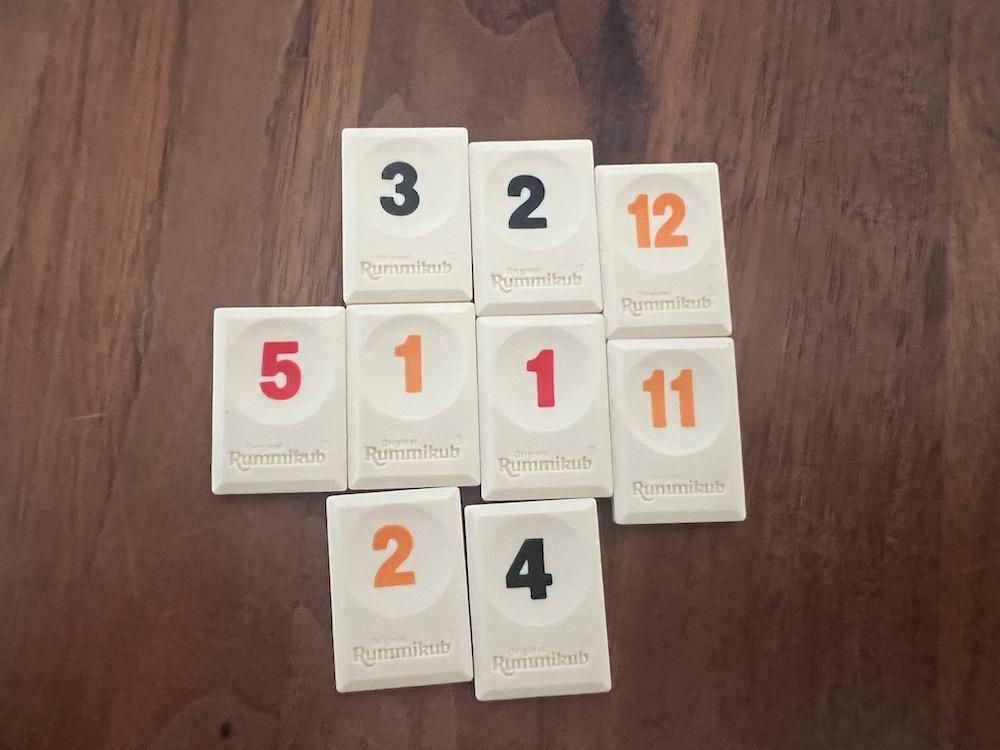black_2: (469, 139, 602, 315)
black_3: (344, 129, 473, 305)
black_4: (465, 498, 611, 701)
orange_1: (346, 303, 479, 490)
orange_11: (607, 340, 746, 521)
orange_12: (594, 162, 732, 337)
orange_2: (326, 488, 472, 693)
red_1: (477, 314, 613, 500)
red_5: (211, 307, 346, 494)
